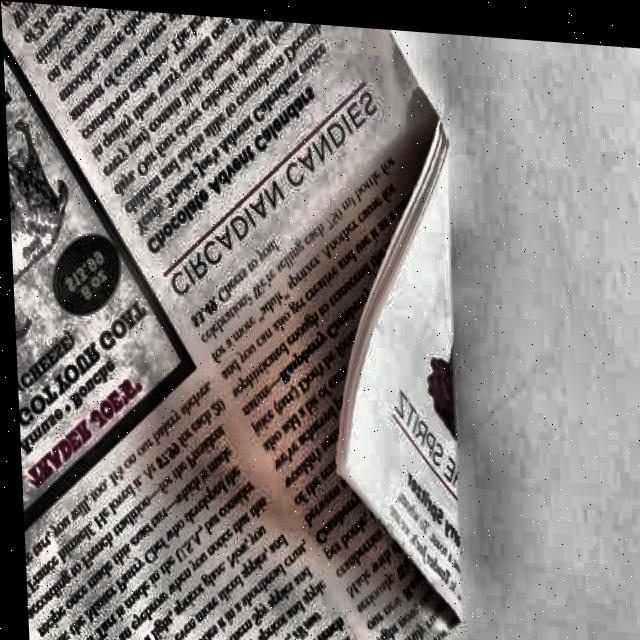paper: (0, 0, 473, 640)
